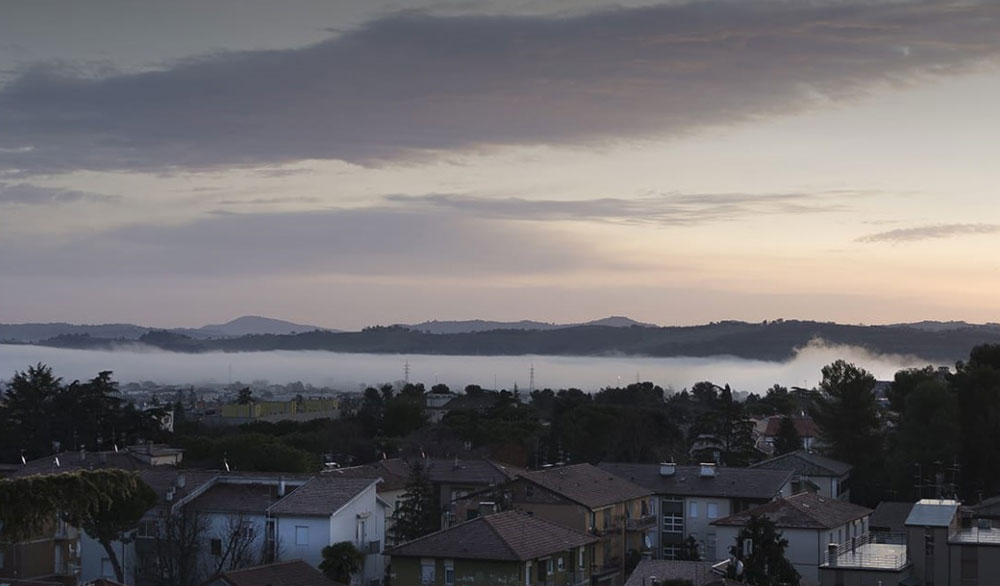Stratus: (8, 5, 1000, 178), (2, 193, 997, 298), (4, 325, 965, 397)
